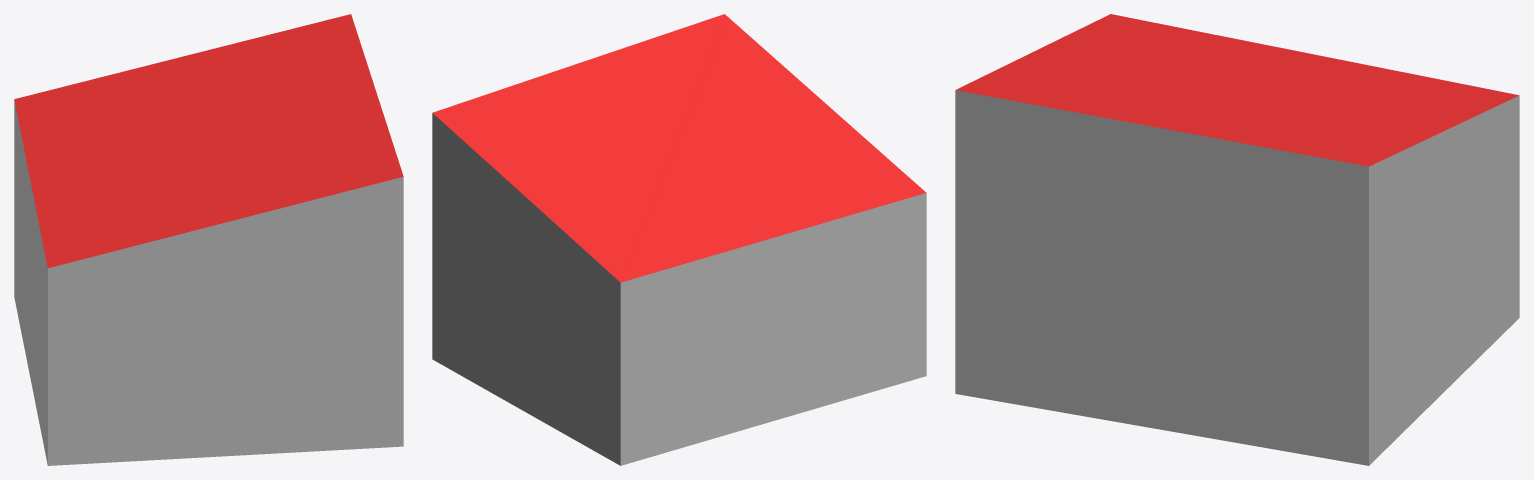
Rendered from DEBY_LOD2_4908159.dae.
3 renders of one model, left to right at view 1: azimuth 30°, elevation 25°; view 2: azimuth 150°, elevation 25°; view 3: azimuth 270°, elevation 25°, orthographic. The views are drawn at different scales.
Bounding box in the file's own units: 7.93 × 8.24 × 4.89.
